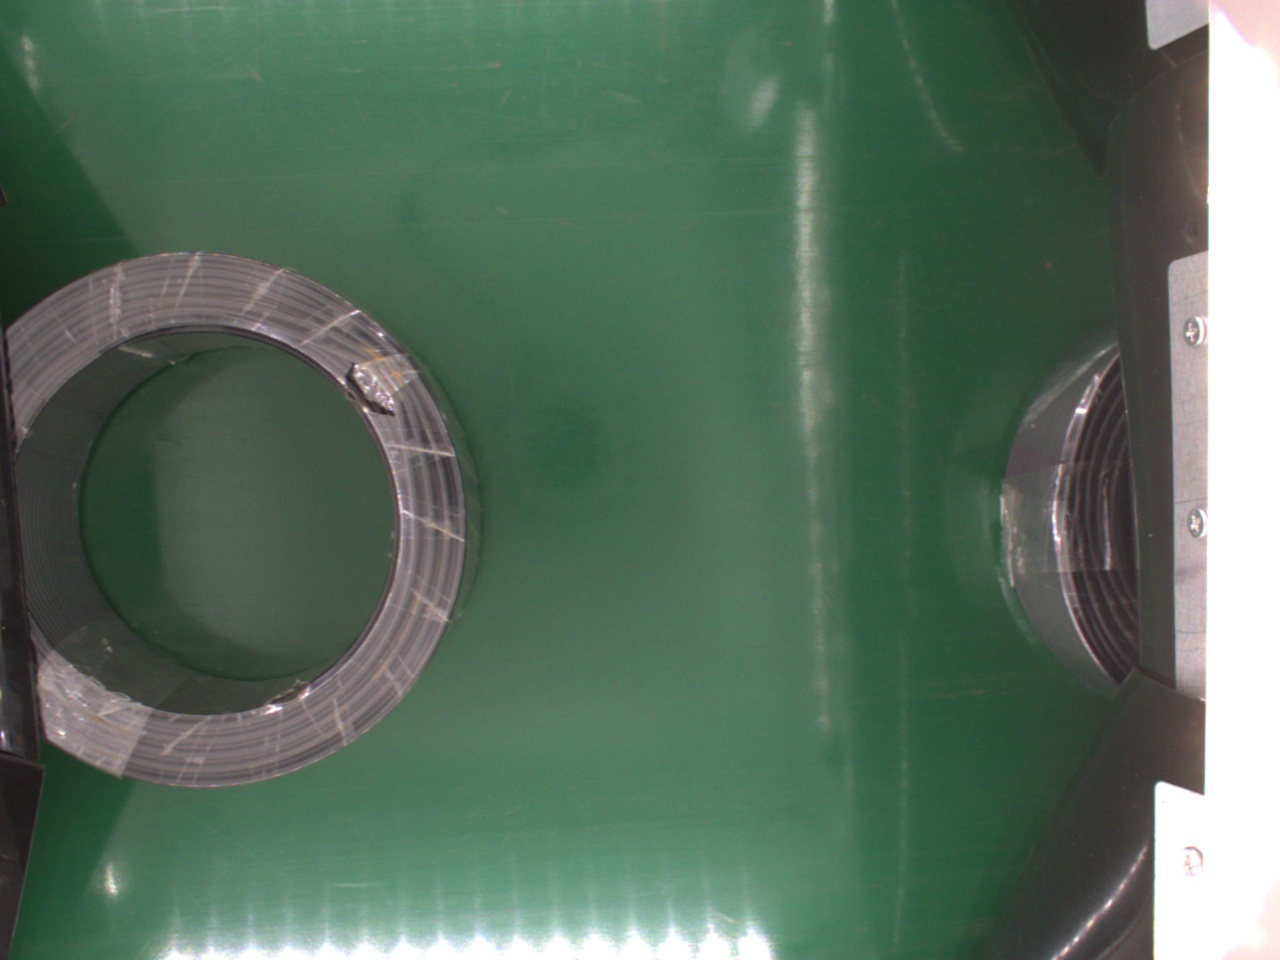black: (10, 250, 482, 794), (996, 329, 1141, 689)
